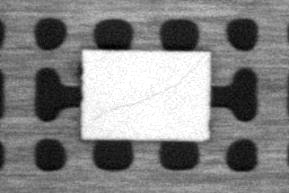DIE_CRACK: (96, 63, 200, 119)
